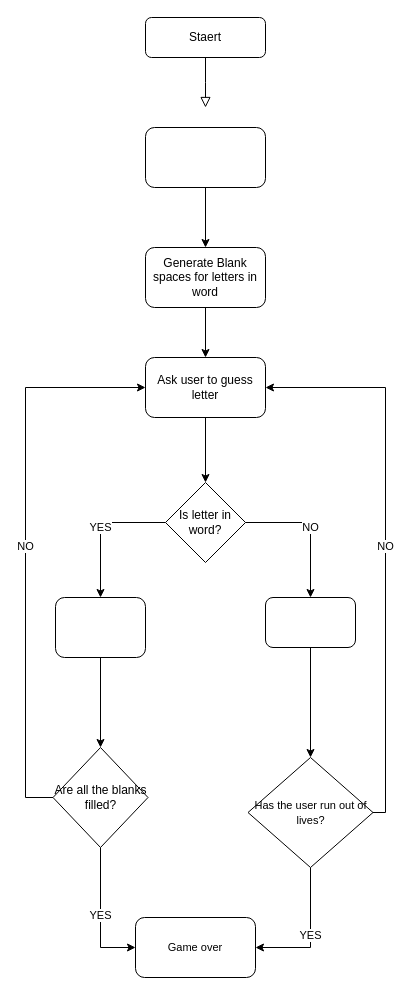
The diagram is 411 pixels wide and 995 high, and some of its shapes have lost their labels. Here are the shapes that lost their labels. From the top down, the box of each, then its label:
(144, 126, 266, 188): Generate Random Word
(54, 596, 146, 658): Replace blank with letter
(264, 596, 356, 648): Lose life
